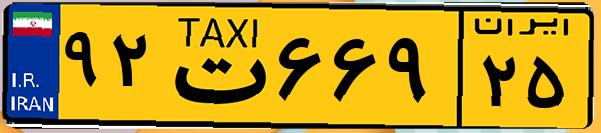2: (475, 38, 525, 113), (110, 28, 158, 98)
5: (525, 38, 570, 115)
6: (270, 28, 330, 110), (330, 28, 385, 110)
9: (385, 28, 445, 110), (57, 26, 110, 100)
ت: (158, 12, 270, 120)
